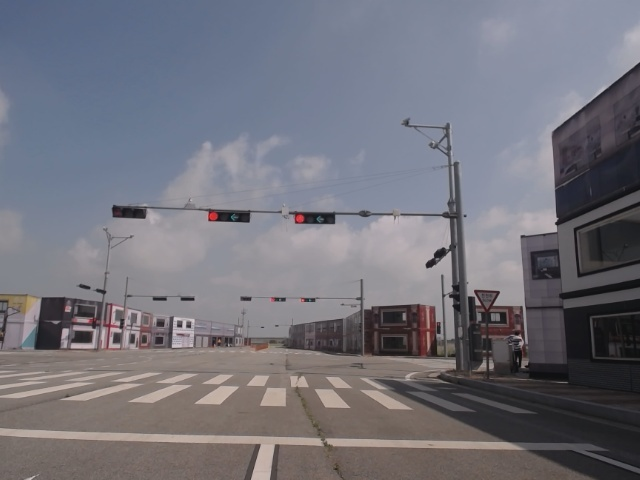left_green_4: (208, 210, 251, 223), (294, 212, 336, 225)
